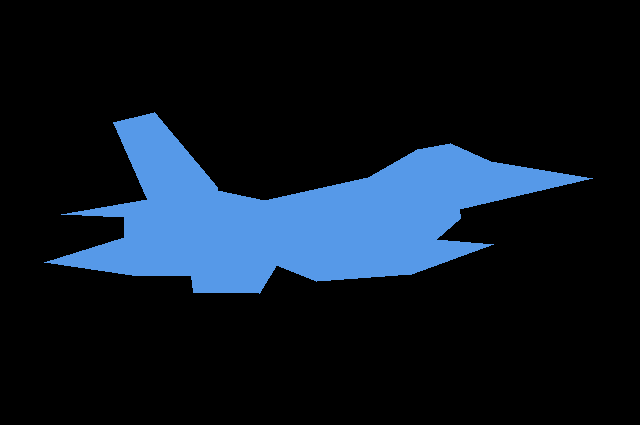Airplane: (44, 112, 592, 293)
